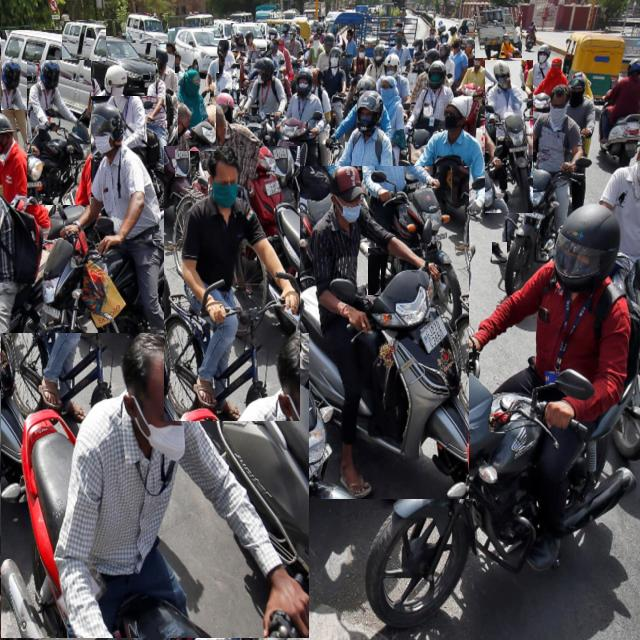autorickshaw: (562, 32, 625, 97)
bicycle: (164, 146, 300, 421)
car: (0, 30, 78, 110), (79, 36, 156, 96), (175, 29, 219, 73), (62, 21, 105, 61), (126, 14, 168, 43), (231, 23, 266, 51), (214, 20, 241, 40)
motorcycle: (366, 205, 635, 628), (0, 334, 309, 638), (287, 166, 468, 499), (22, 103, 189, 400), (294, 90, 392, 324), (491, 85, 590, 295), (0, 363, 92, 587), (27, 60, 90, 205), (274, 68, 330, 208), (485, 60, 532, 213), (239, 57, 288, 162), (600, 60, 640, 167), (178, 68, 216, 151), (460, 50, 491, 133), (368, 248, 381, 295), (175, 148, 190, 177), (492, 242, 506, 263)
truck: (475, 7, 521, 58)
